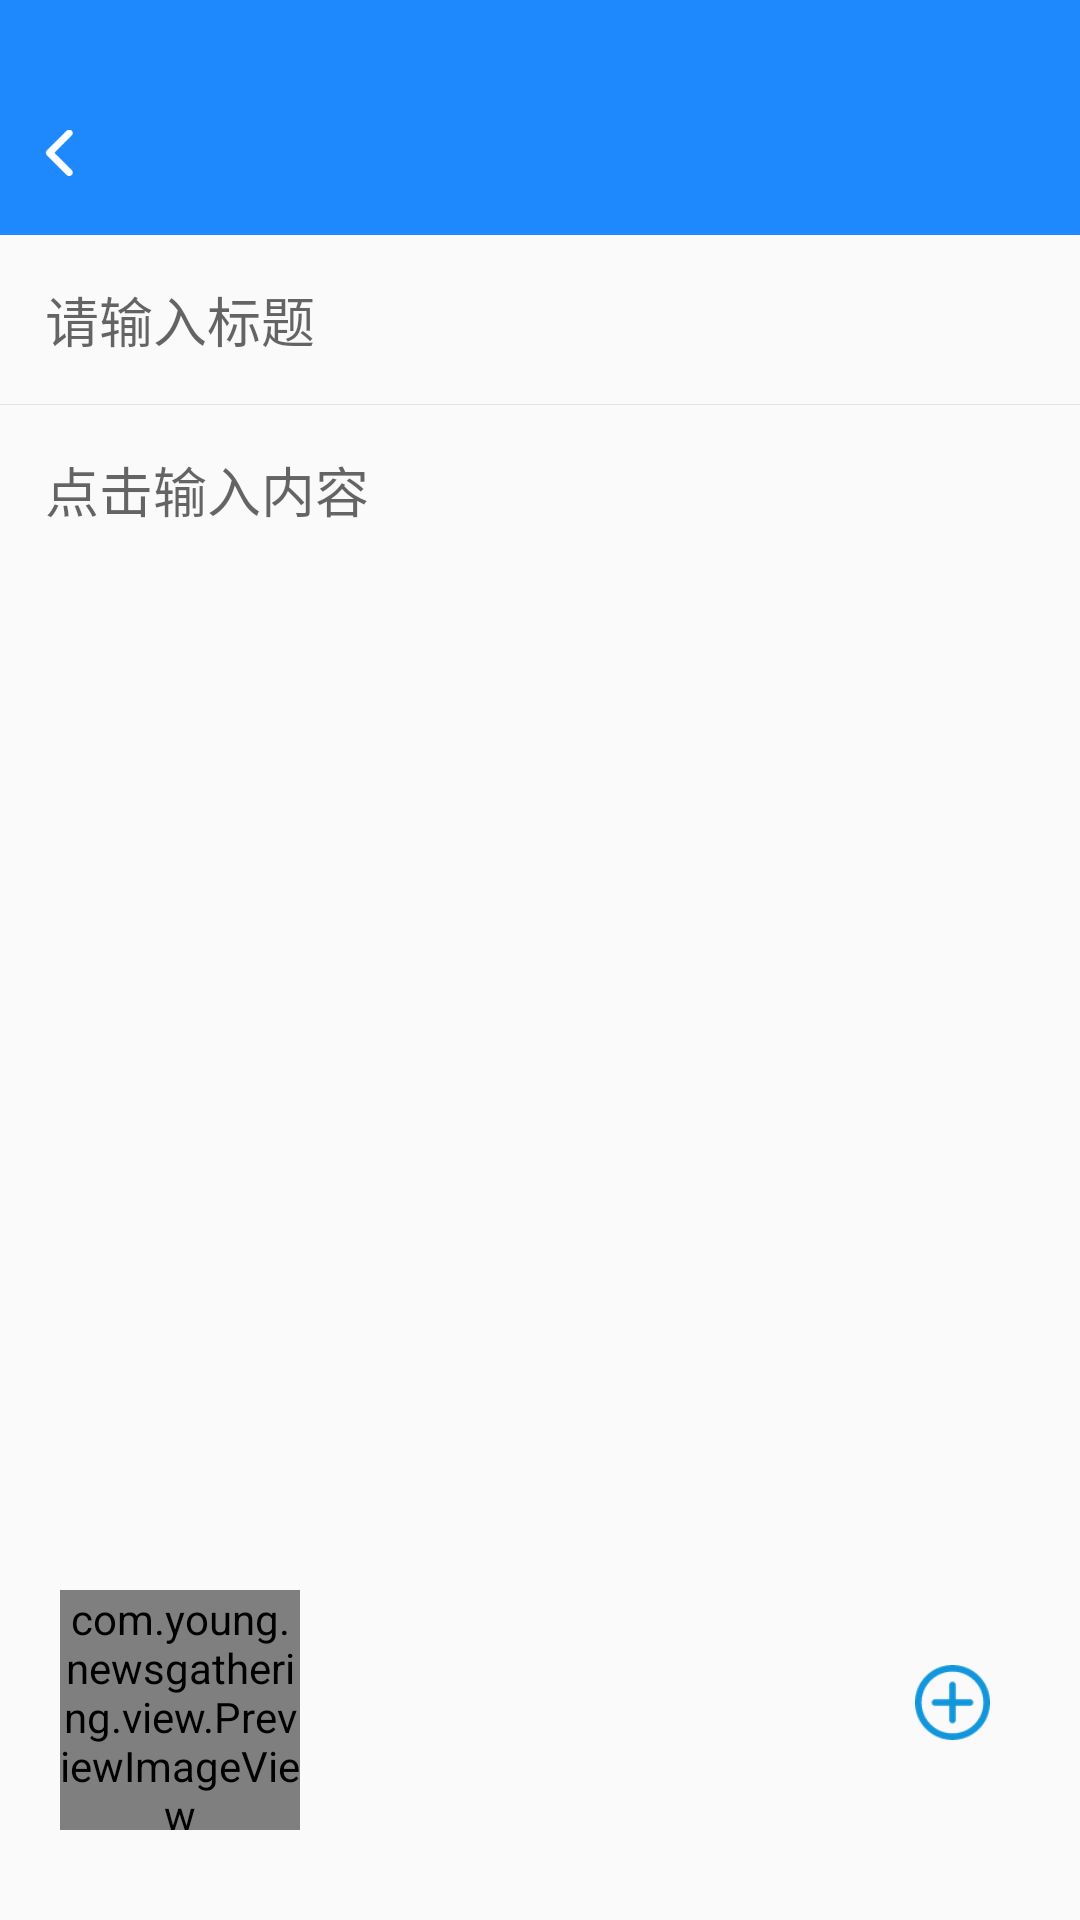

Point at icon controls on the screen. Image size 1080w x 1920h, points as [x,y].
add: [952,1702]
back: [59,153]
